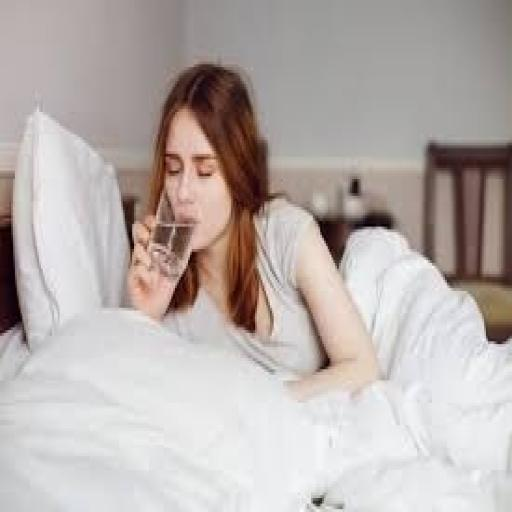drinking: (143, 187, 194, 277)
